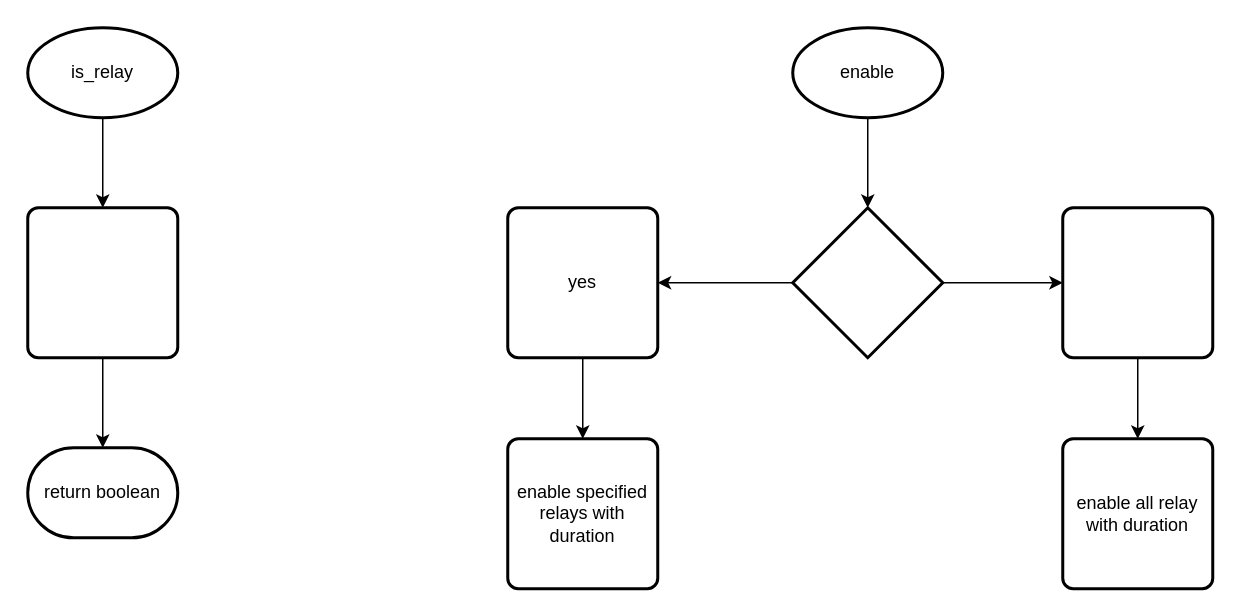
Image size: 1239x615. Some labels were removed from this diagram. Here are the shapes that lost their labels. From the top down, the box of each, then its label:
(26, 206, 178, 358): check if ID is in relay dictionary
(790, 206, 944, 358): is IDs specified
(1060, 206, 1214, 358): no
